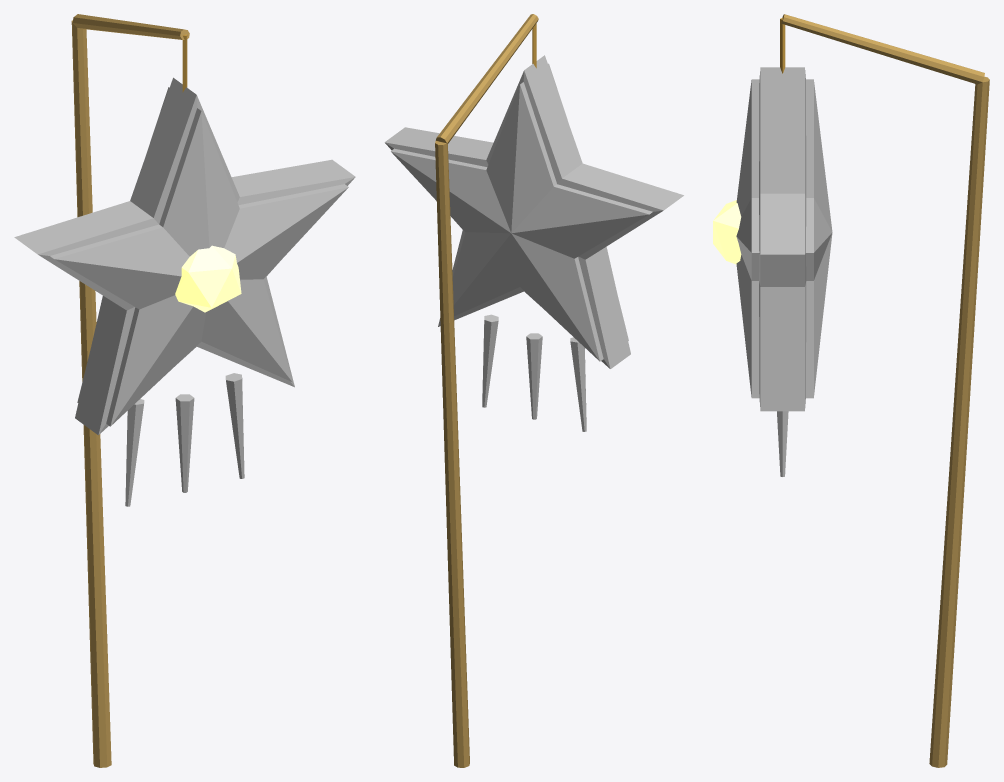
Rendered from ev_lantern_star_v01.glb.
3 views of the same model, side by side, from view 1: azimuth 30°, elevation 25°; view 2: azimuth 150°, elevation 25°; view 3: azimuth 270°, elevation 25° (orthographic). The views are drawn at different scales.
Parts seen in each view (by area): view 1: lantern_star; view 2: lantern_star; view 3: lantern_star.
Part boxes in pixels (x1=…): lantern_star: x1=14, y1=14, x2=355, y2=767; lantern_star: x1=384, y1=14, x2=683, y2=767; lantern_star: x1=713, y1=14, x2=989, y2=767.
Size of the model in its own units: 0.7799 by 1.86 by 0.6225.
